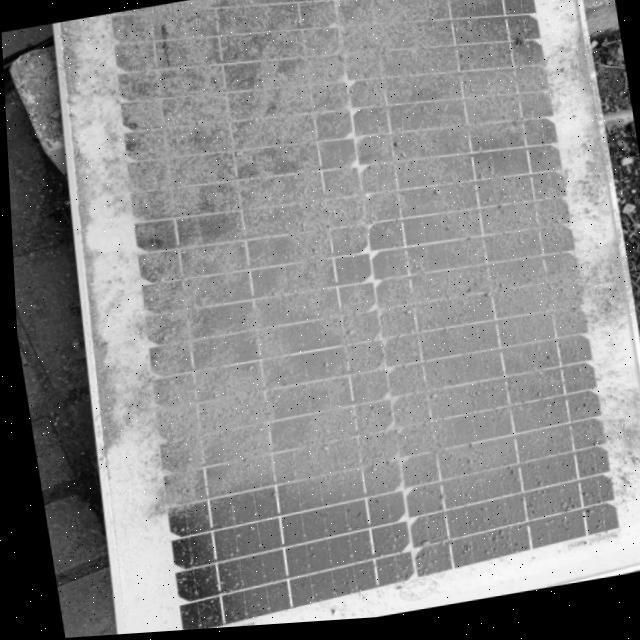Anomaly Solar Panel: (70, 0, 626, 636)
Surface Contaminant: (47, 0, 634, 600)
